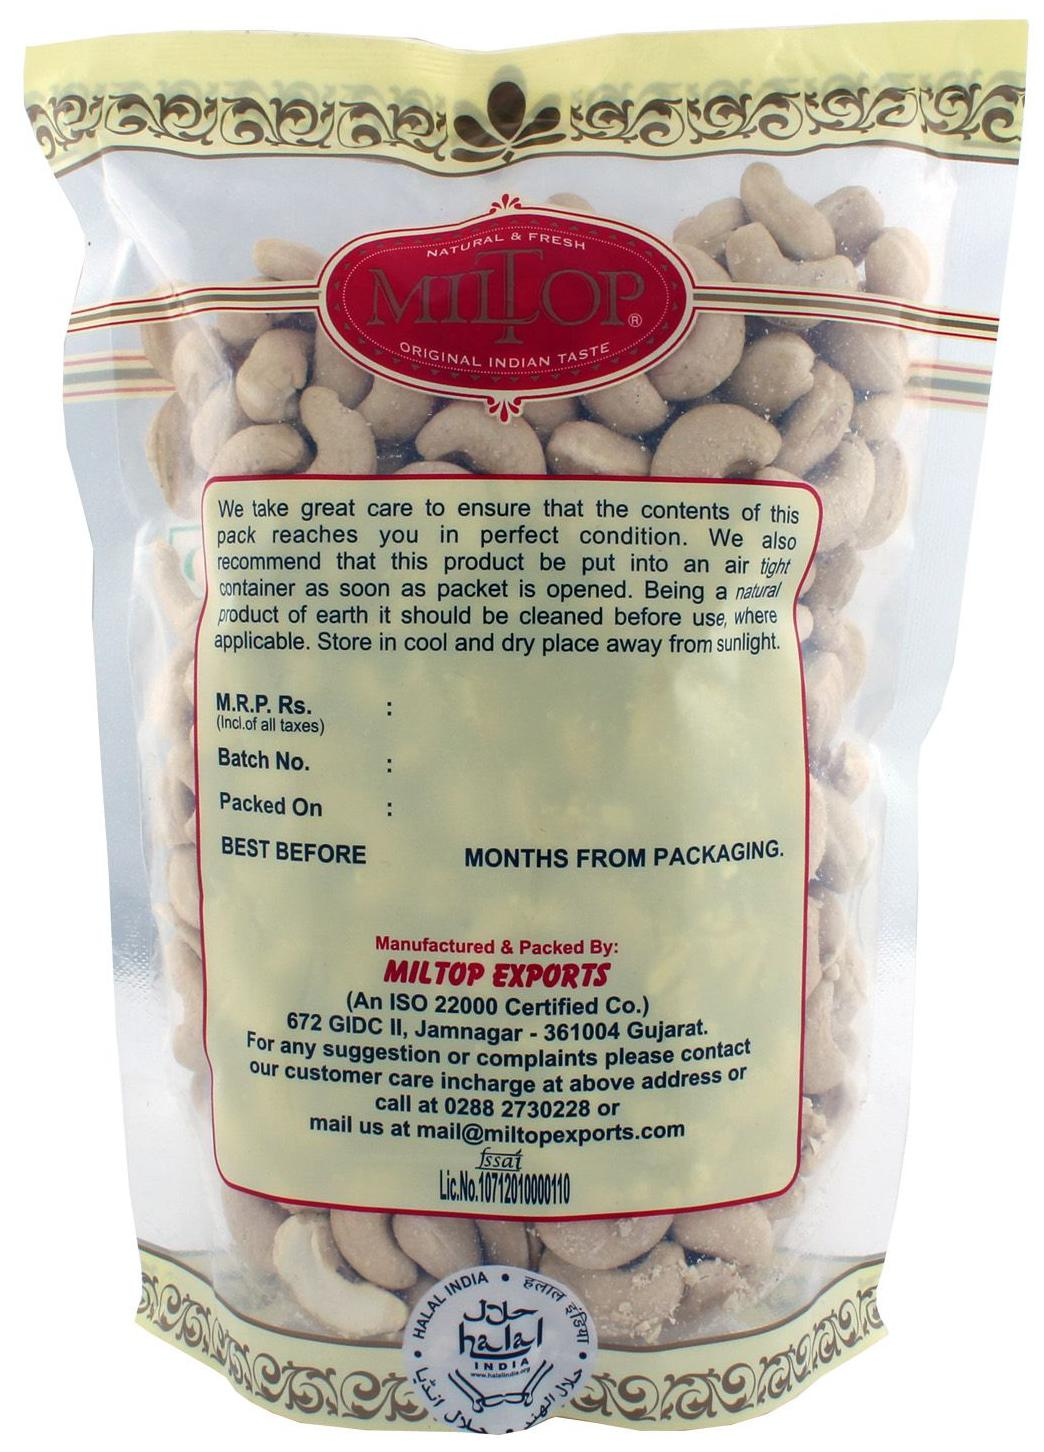fssai: (475, 1148, 527, 1170)
